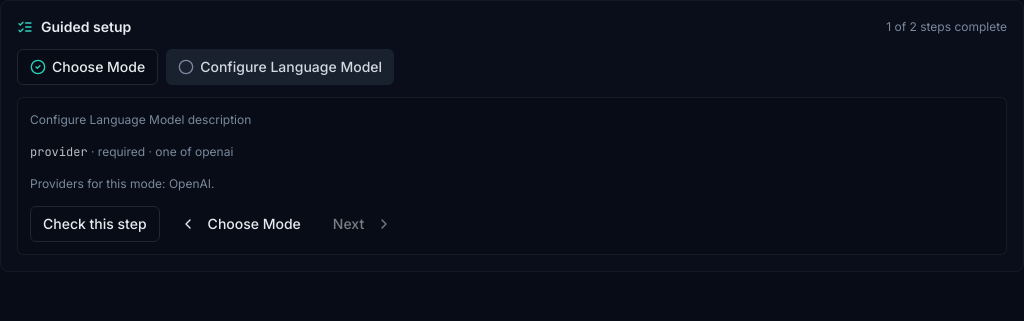
Test case: WizardProgress › checks just the active step's fields against the whole draft
Click the button "Check this step": (95, 224) [30,206,160,242]
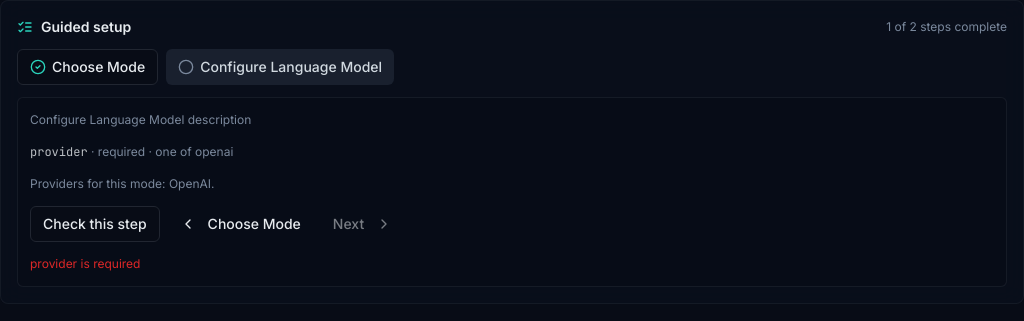
Expected: the message reads "provider is required", [30,256,140,271]
